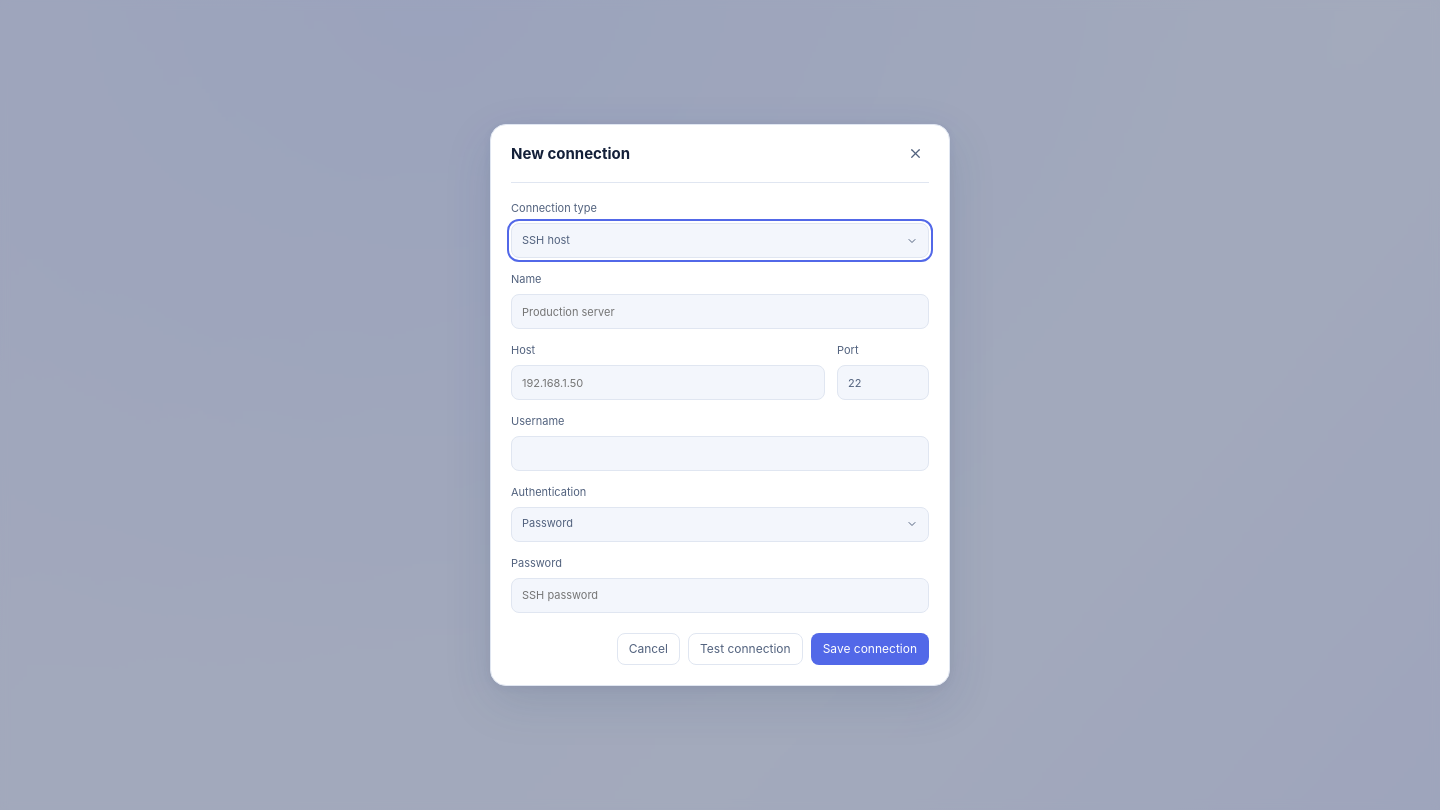
Test: Early Access Gateway › offers SSH connections when a local Core runtime is unavailable
Step 1. Click the dropdown named "Connection type" → (546, 240), box 511,223 -> 929,258
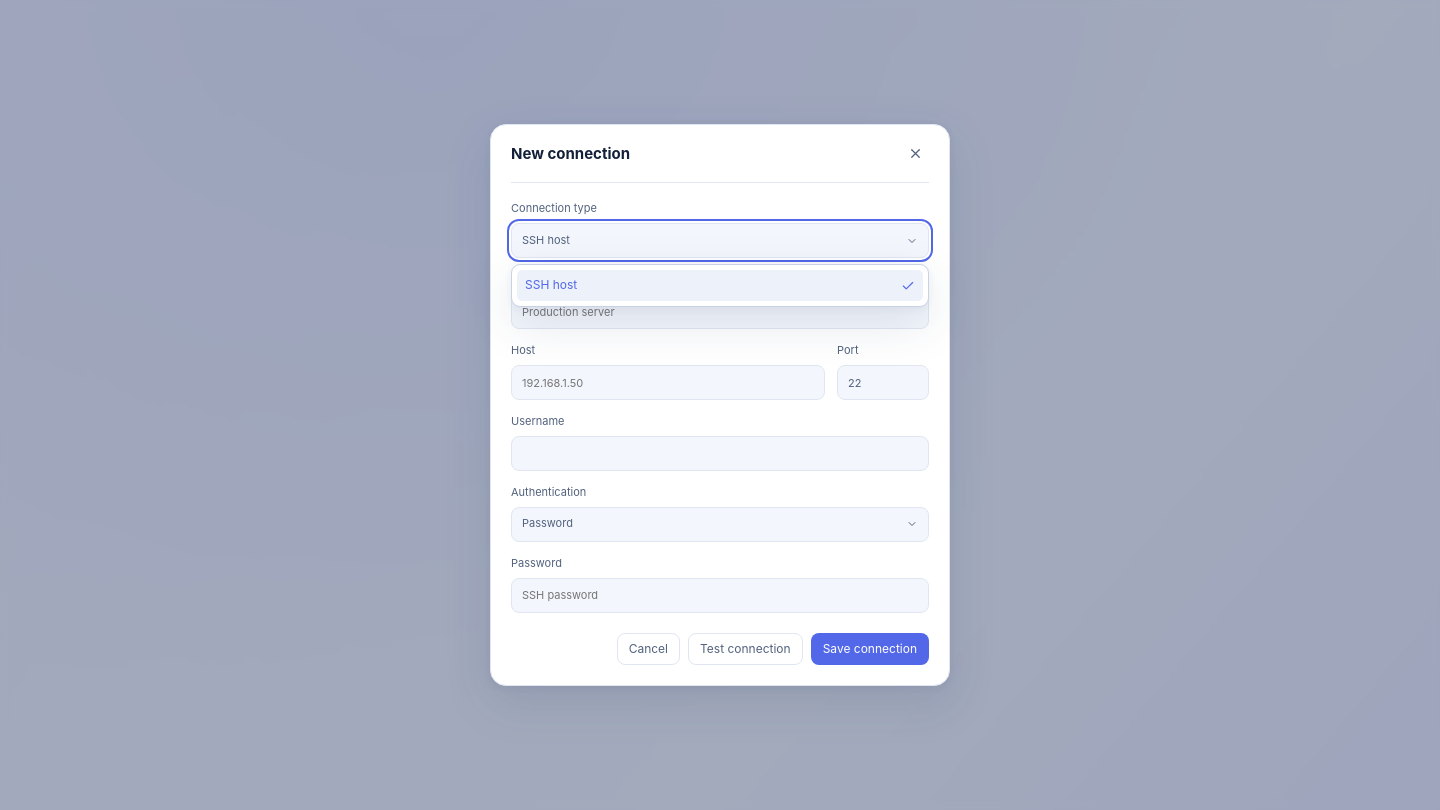
Expected: the option "SSH host" is shown, 517,270 -> 923,301
